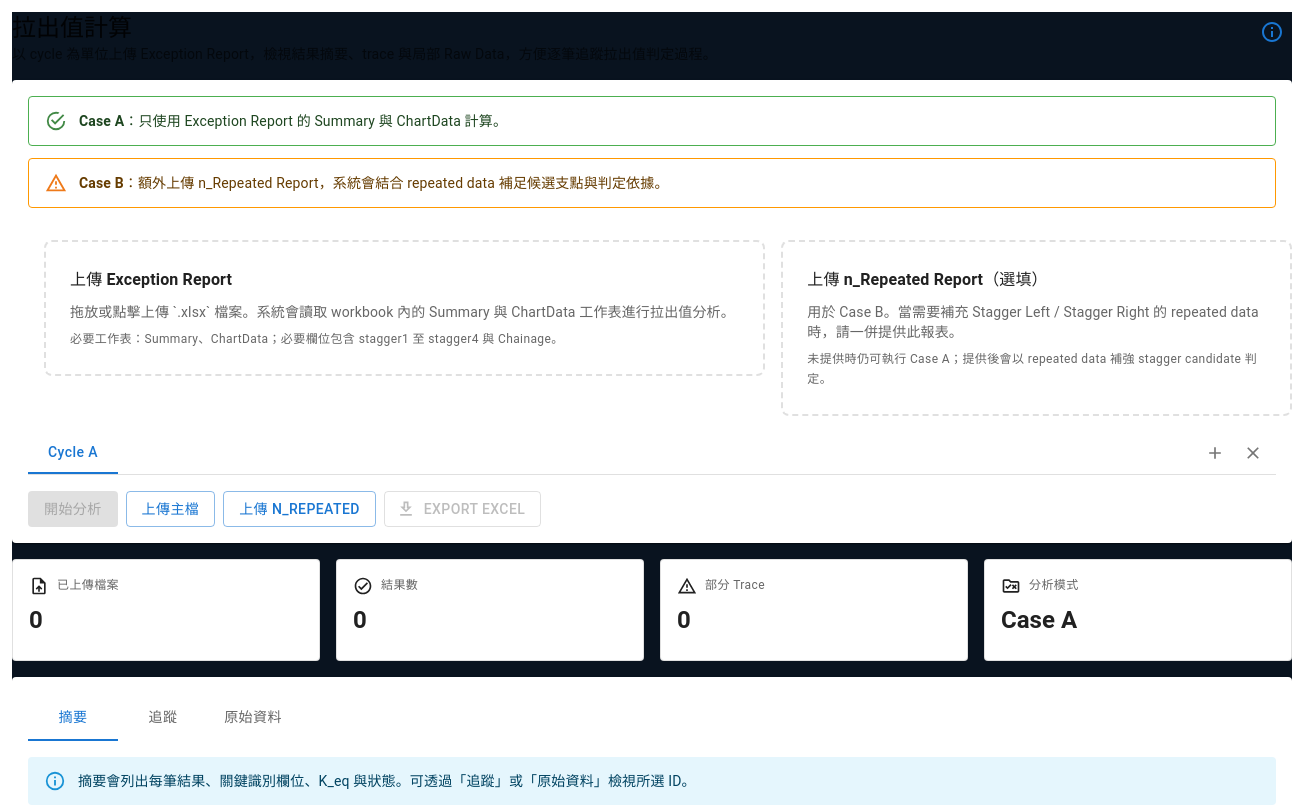
Scenario: CalculationView › can add a new cycle tab
The width and height of the screenshot is (1304, 812).
Click the button named "Add cycle tab" at (1215, 453), box [1200,438,1230,468]
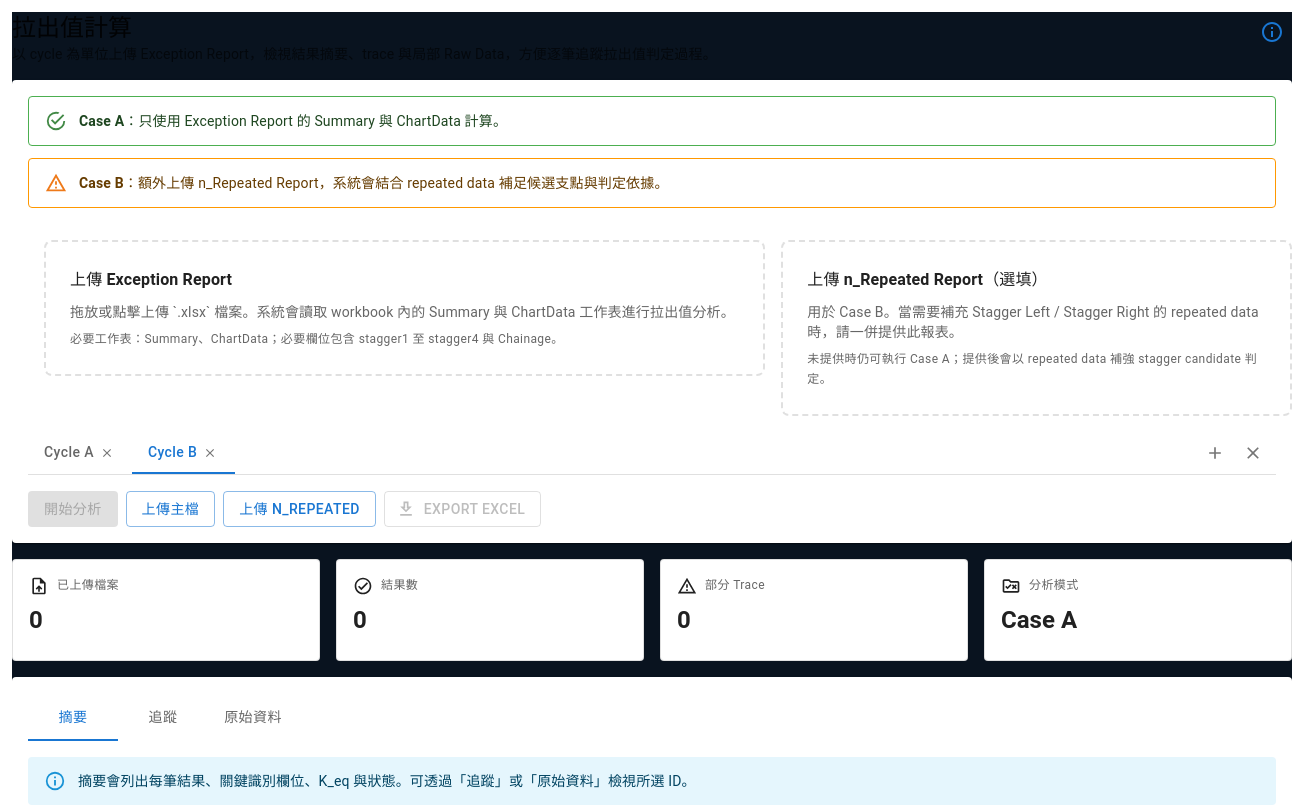
Result: the tab "Cycle B" is shown at [132,432,235,474]
